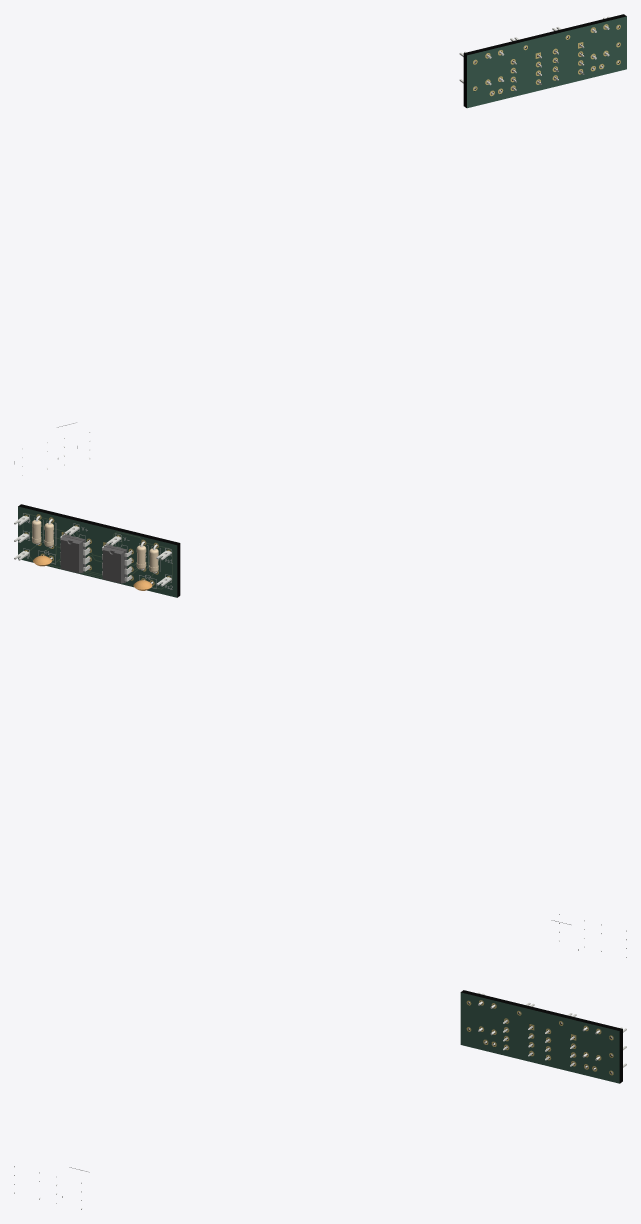
File: Normal.glb
3 renders of one model, top to bottom at view 1: azimuth 30°, elevation 25°; view 2: azimuth 150°, elevation 25°; view 3: azimuth 330°, elevation 25°, orthographic.
Visible parts, largest first — view 1: SHAPE_18_IndexedFaceSet; view 2: SHAPE_18_IndexedFaceSet; view 3: SHAPE_18_IndexedFaceSet.
Part boxes in pixels (left/top/right/bottom): SHAPE_18_IndexedFaceSet: left=459, top=14, right=626, bottom=108; SHAPE_18_IndexedFaceSet: left=14, top=504, right=180, bottom=597; SHAPE_18_IndexedFaceSet: left=460, top=990, right=626, bottom=1083.
Bounding box in the file's own units: 0.183 × 0.0892 × 0.0084.
